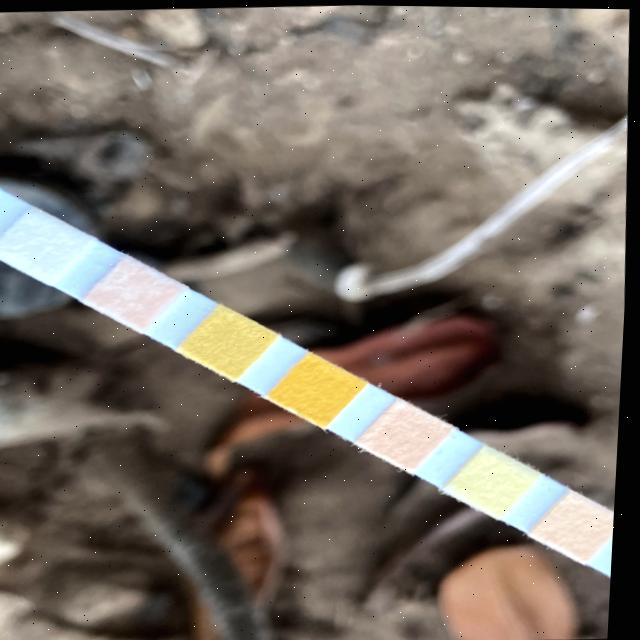Bilirubin: (11, 226, 75, 264)
Blood: (292, 368, 350, 405)
Ketone: (105, 273, 166, 312)
Protein: (470, 458, 525, 500)
SpGravity: (200, 322, 261, 360)
Urobilinogen: (557, 504, 612, 543)
pH: (382, 415, 440, 451)
